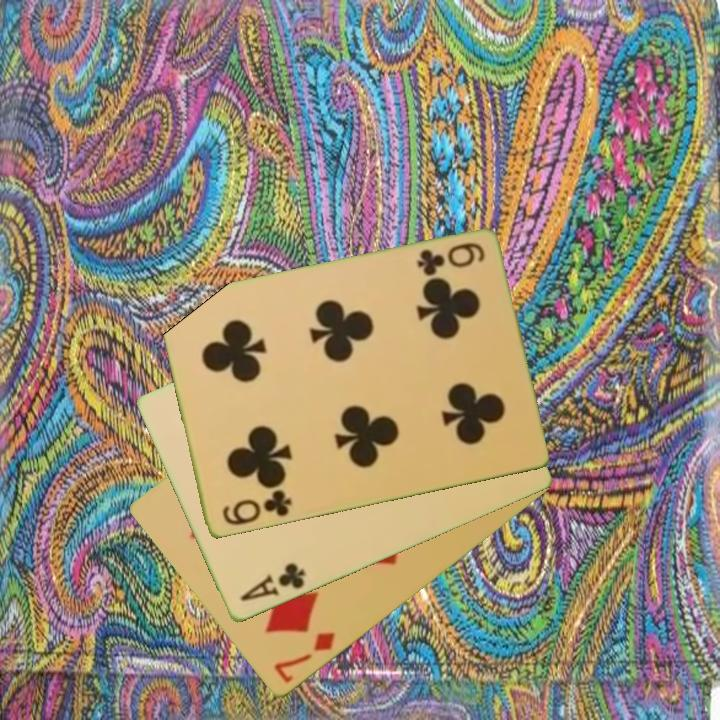6c: (218, 487, 295, 529), (413, 239, 488, 279)
7d: (270, 629, 338, 687)
Ac: (237, 559, 308, 605)
